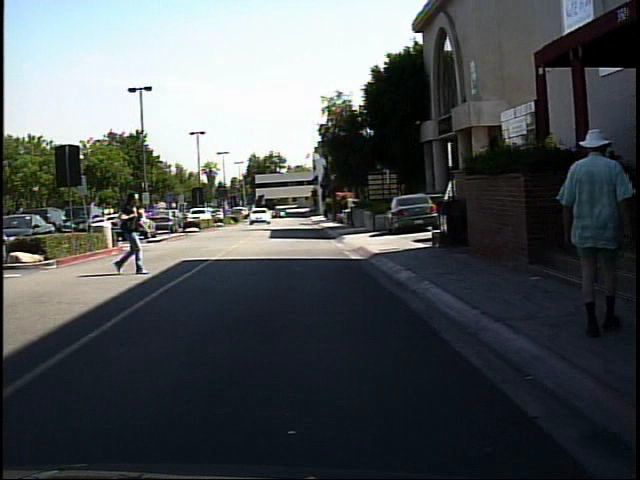person: (554, 115, 634, 342), (110, 187, 152, 278)
